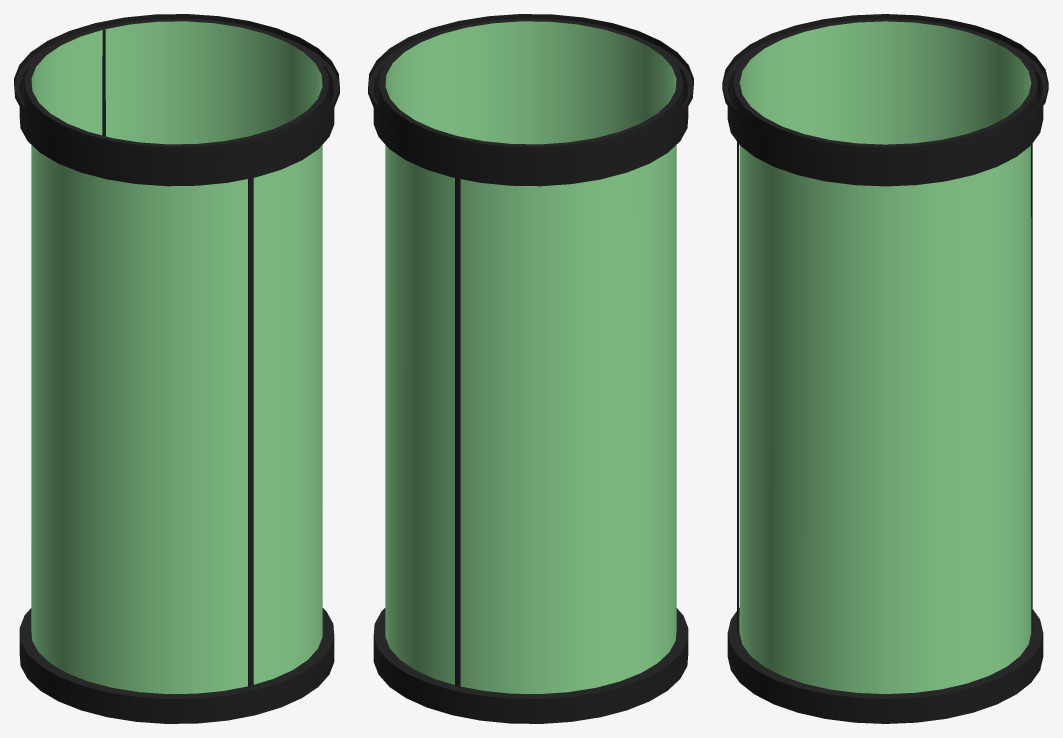
The model's file is Column01.FBX.
The picture shows the model from 3 angles, left to right: view 1: azimuth 30°, elevation 25°; view 2: azimuth 150°, elevation 25°; view 3: azimuth 270°, elevation 25°; orthographic projection.
Visible parts, largest first — view 1: Column01; view 2: Column01; view 3: Column01.
Part boxes in pixels (x1=…): Column01: x1=14, y1=14, x2=339, y2=723; Column01: x1=368, y1=14, x2=693, y2=723; Column01: x1=722, y1=14, x2=1048, y2=723.
Bounding box in the file's own units: 180 × 350 × 180.
